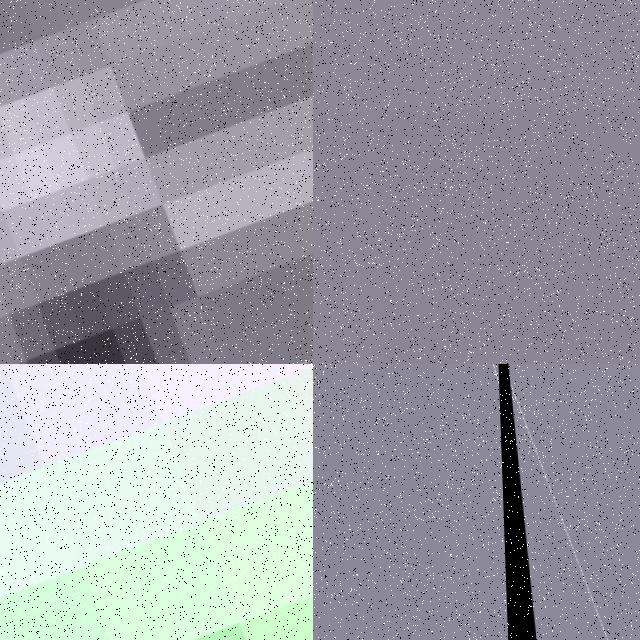drone: (0, 0, 313, 364), (0, 364, 313, 640), (492, 364, 640, 640)
